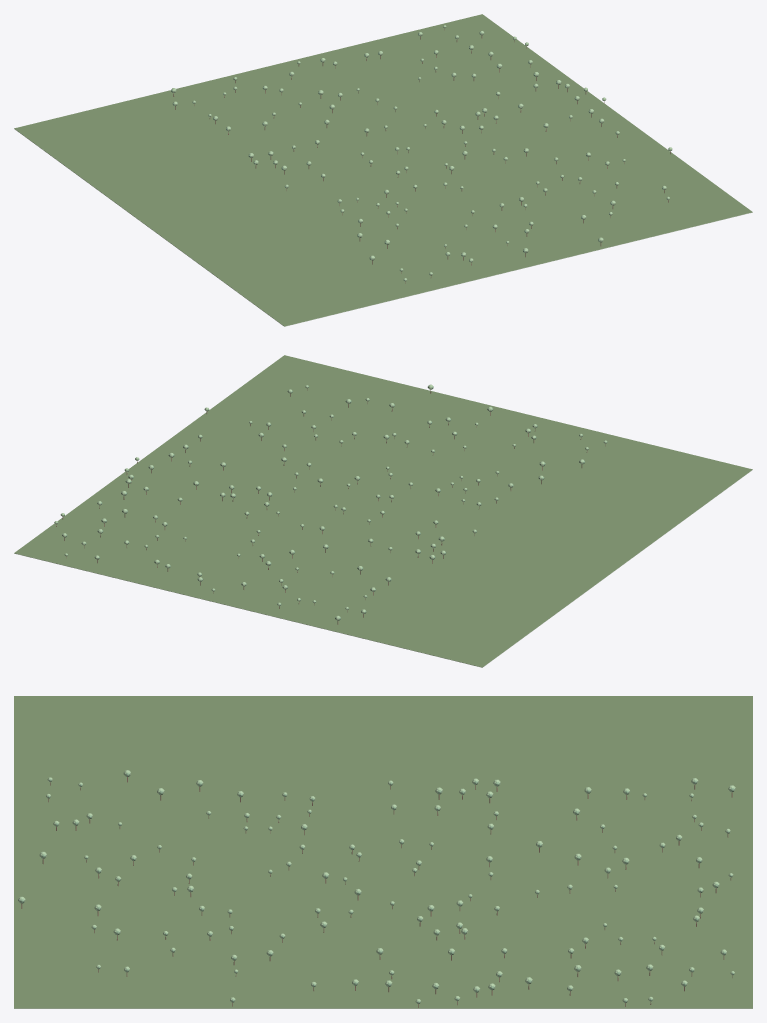
The model's file is chunk_0_3_high.glb.
3 views of the same model, one above another, from view 1: azimuth 30°, elevation 25°; view 2: azimuth 150°, elevation 25°; view 3: azimuth 270°, elevation 25° (orthographic). The views are drawn at different scales.
Visible parts, largest first — view 1: city_forest_floor, city_foliage, city_foliage_dark, city_grass, city_bark; view 2: city_forest_floor, city_foliage, city_foliage_dark, city_grass, city_bark; view 3: city_forest_floor, city_foliage, city_foliage_dark, city_bark, city_grass.
Boxes of the visible parts, bbox=[...] form: city_forest_floor: bbox=[14, 14, 752, 326]; city_foliage: bbox=[171, 25, 672, 281]; city_foliage_dark: bbox=[171, 26, 669, 280]; city_grass: bbox=[14, 129, 752, 326]; city_bark: bbox=[173, 28, 670, 283]; city_forest_floor: bbox=[14, 355, 752, 667]; city_foliage: bbox=[54, 384, 606, 620]; city_foliage_dark: bbox=[54, 385, 607, 619]; city_grass: bbox=[14, 470, 752, 667]; city_bark: bbox=[56, 388, 605, 624]; city_forest_floor: bbox=[14, 696, 752, 1008]; city_foliage: bbox=[18, 770, 735, 1003]; city_foliage_dark: bbox=[20, 772, 734, 1003]; city_bark: bbox=[21, 777, 732, 1007]; city_grass: bbox=[14, 1008, 752, 1008].
Bounding box in the file's own units: 513 × 9.76 × 512.
